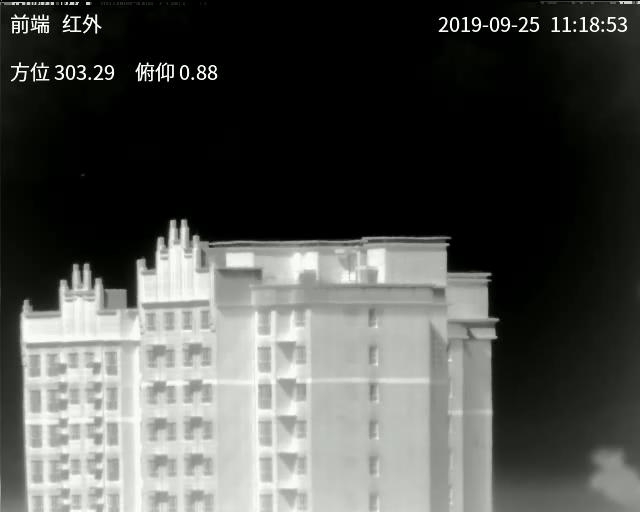uav: (292, 275, 338, 312)
